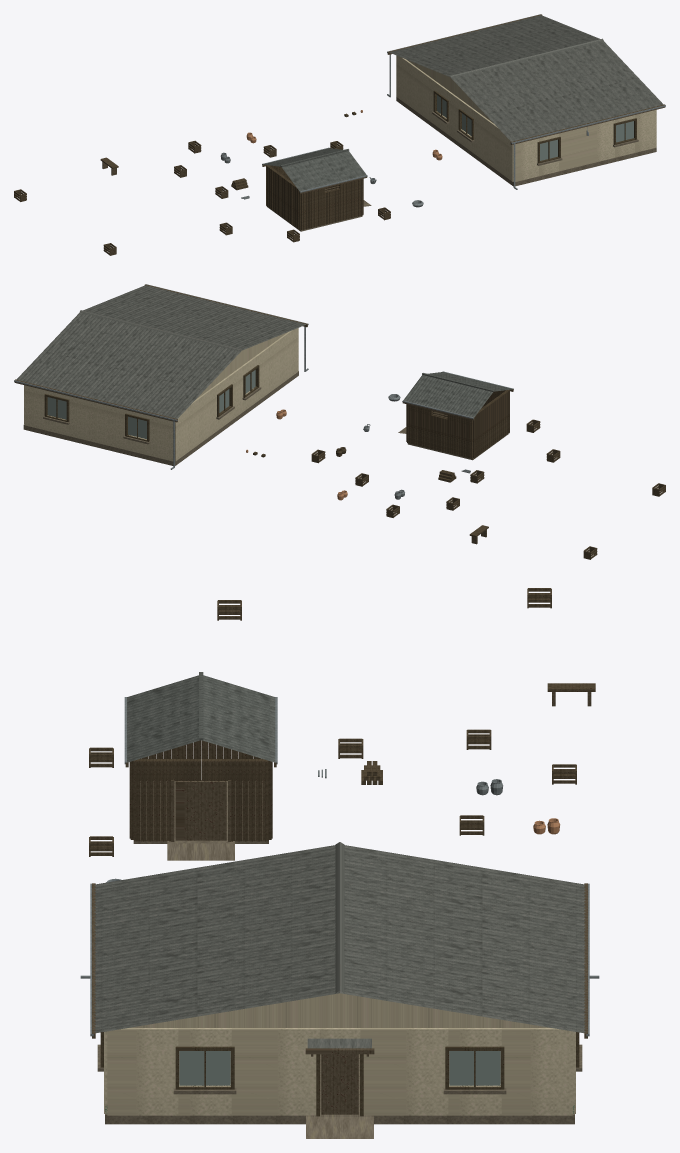
3 views of the same model, one above another, from view 1: azimuth 30°, elevation 25°; view 2: azimuth 150°, elevation 25°; view 3: azimuth 270°, elevation 25° (orthographic). The views are drawn at different scales.
Visible parts, largest first — view 1: H20_CHAPAS_ONDULADAS, H20_FUNDOS, H20_LATERAIS, H20_ABRIGO_JARDIM_COBERTURA, H20_ABRIGO_JARDIM_LATERAL, H20_ABRIGO_JARDIM_MATA_JUNTAS, H20_ABRIGO_JARDIM_FUNDOS, H20_FUNDACAO, H20_VIDROS_RECUADOS, H20_CAIXILHOS, H20_BEIRAIS, H20_OITOES (+2 smaller); view 2: H20_CHAPAS_ONDULADAS, H20_FUNDOS, H20_LATERAIS, H20_ABRIGO_JARDIM_COBERTURA, H20_ABRIGO_JARDIM_LATERAL, H20_ABRIGO_JARDIM_MATA_JUNTAS, H20_ABRIGO_JARDIM_FUNDOS, H20_FUNDACAO, H20_VIDROS_RECUADOS, H20_CAIXILHOS, H20_BEIRAIS, H20_OITOES (+2 smaller); view 3: H20_CHAPAS_ONDULADAS, H20_FACHADA, H20_ABRIGO_JARDIM_COBERTURA, H20_OITOES, H20_ABRIGO_JARDIM_FRENTE, H20_FUNDACAO, H20_VIDROS_RECUADOS, H20_ABRIGO_JARDIM_PORTA_FOLHA, H20_PORTA_FOLHA, H20_ABRIGO_JARDIM_MATA_JUNTAS, H20_CAIXILHOS, H20_ABRIGO_JARDIM_FUNDOS (+6 smaller).
Boxes of the visible parts, x1=… form: H20_CHAPAS_ONDULADAS: x1=389, y1=15, x2=663, y2=141; H20_FUNDOS: x1=396, y1=55, x2=513, y2=181; H20_LATERAIS: x1=515, y1=110, x2=655, y2=181; H20_ABRIGO_JARDIM_COBERTURA: x1=263, y1=148, x2=366, y2=191; H20_ABRIGO_JARDIM_LATERAL: x1=269, y1=165, x2=363, y2=230; H20_ABRIGO_JARDIM_MATA_JUNTAS: x1=266, y1=166, x2=361, y2=229; H20_ABRIGO_JARDIM_FUNDOS: x1=266, y1=165, x2=300, y2=229; H20_FUNDACAO: x1=396, y1=97, x2=656, y2=186; H20_VIDROS_RECUADOS: x1=437, y1=95, x2=633, y2=160; H20_CAIXILHOS: x1=433, y1=90, x2=636, y2=163; H20_BEIRAIS: x1=387, y1=14, x2=665, y2=144; H20_OITOES: x1=407, y1=60, x2=493, y2=123; H20_CHAPAS_ONDULADAS: x1=16, y1=285, x2=305, y2=418; H20_FUNDOS: x1=175, y1=328, x2=298, y2=461; H20_LATERAIS: x1=24, y1=385, x2=173, y2=461; H20_ABRIGO_JARDIM_COBERTURA: x1=403, y1=372, x2=512, y2=417; H20_ABRIGO_JARDIM_LATERAL: x1=407, y1=390, x2=507, y2=458; H20_ABRIGO_JARDIM_MATA_JUNTAS: x1=408, y1=391, x2=509, y2=458; H20_ABRIGO_JARDIM_FUNDOS: x1=473, y1=390, x2=509, y2=458; H20_FUNDACAO: x1=23, y1=371, x2=298, y2=465; H20_VIDROS_RECUADOS: x1=47, y1=370, x2=255, y2=439; H20_CAIXILHOS: x1=44, y1=365, x2=259, y2=441; H20_BEIRAIS: x1=14, y1=284, x2=307, y2=422; H20_OITOES: x1=196, y1=332, x2=287, y2=398; H20_CHAPAS_ONDULADAS: x1=94, y1=845, x2=585, y2=1033; H20_FACHADA: x1=107, y1=1028, x2=572, y2=1115; H20_ABRIGO_JARDIM_COBERTURA: x1=127, y1=675, x2=275, y2=762; H20_OITOES: x1=129, y1=993, x2=550, y2=1027; H20_ABRIGO_JARDIM_FRENTE: x1=133, y1=759, x2=268, y2=841; H20_FUNDACAO: x1=105, y1=1051, x2=574, y2=1124; H20_VIDROS_RECUADOS: x1=179, y1=1051, x2=500, y2=1085; H20_ABRIGO_JARDIM_PORTA_FOLHA: x1=175, y1=781, x2=226, y2=840; H20_PORTA_FOLHA: x1=321, y1=1054, x2=358, y2=1114; H20_ABRIGO_JARDIM_MATA_JUNTAS: x1=129, y1=761, x2=272, y2=841; H20_CAIXILHOS: x1=100, y1=1032, x2=579, y2=1089; H20_ABRIGO_JARDIM_FUNDOS: x1=140, y1=740, x2=262, y2=780.
Bounding box in the file's own units: 35.48 × 4.28 × 14.56.
12 materials, 9 textured.
